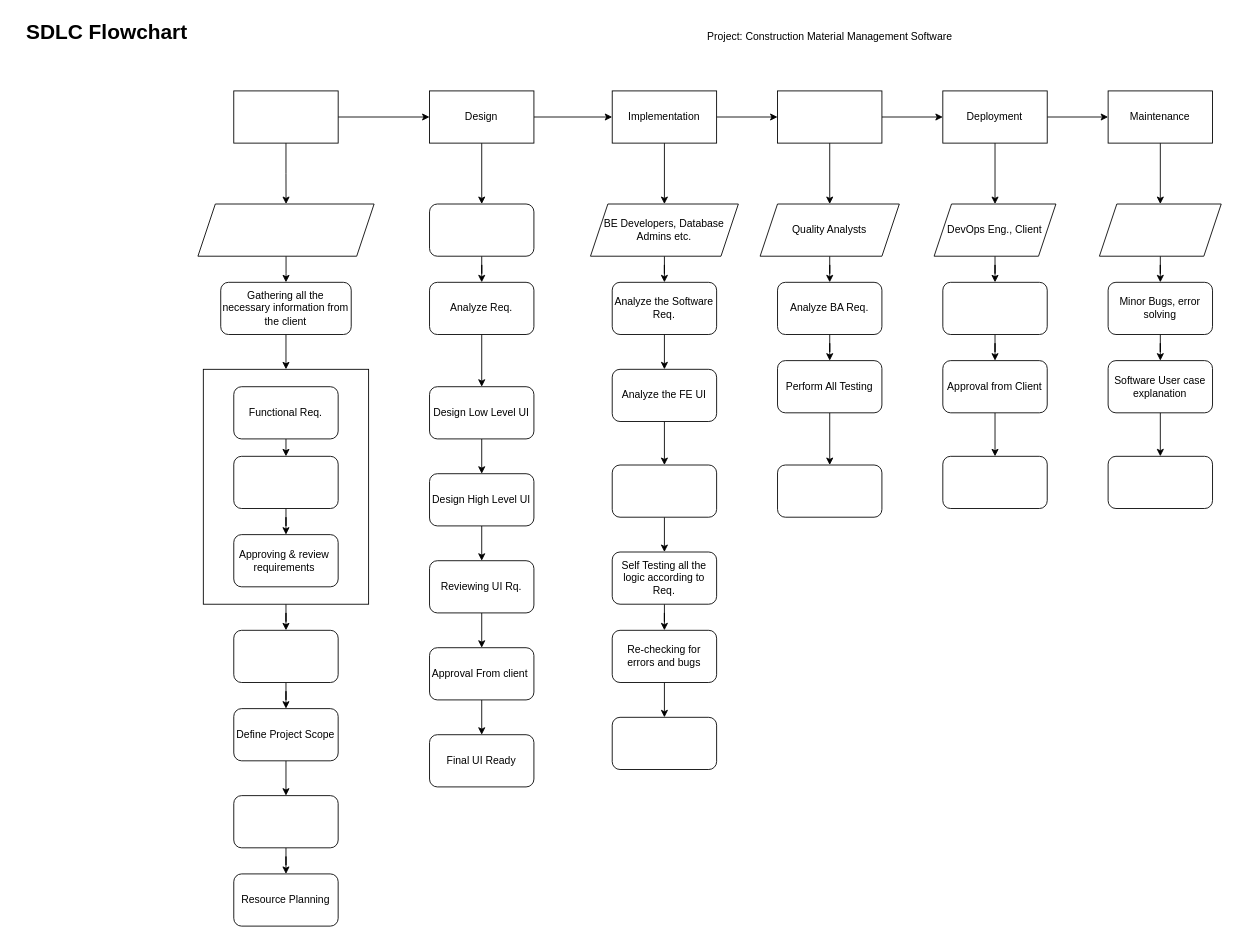
The diagram is 1236 pixels wide and 941 high, and some of its shapes have lost their labels. The centre of each missing label's shape, as x and y in pixels:
"BA's, Sr. Dev, Product manager, client" belongs at (x=285, y=229).
"If bug found return to developer if not process ahead" belongs at (x=829, y=490).
"Objectives and Goals" belongs at (x=285, y=821).
"Planning" belongs at (x=285, y=656).
"Release Beta Version of software" belongs at (x=994, y=308).
"Release the Main Version of software" belongs at (x=994, y=482).
"Requirement Gathering" belongs at (x=285, y=116).
"Sending project to testing team" belongs at (x=664, y=743).
"Support Enginners" belongs at (x=1160, y=229).
"Technical Req." belongs at (x=285, y=482).
"Testing" belongs at (x=829, y=116).
"UIUX and FE Developers, Client" belongs at (x=481, y=229).
"Updates and Feedback" belongs at (x=1160, y=482).
"Working on BE logic and DB" belongs at (x=664, y=490).
